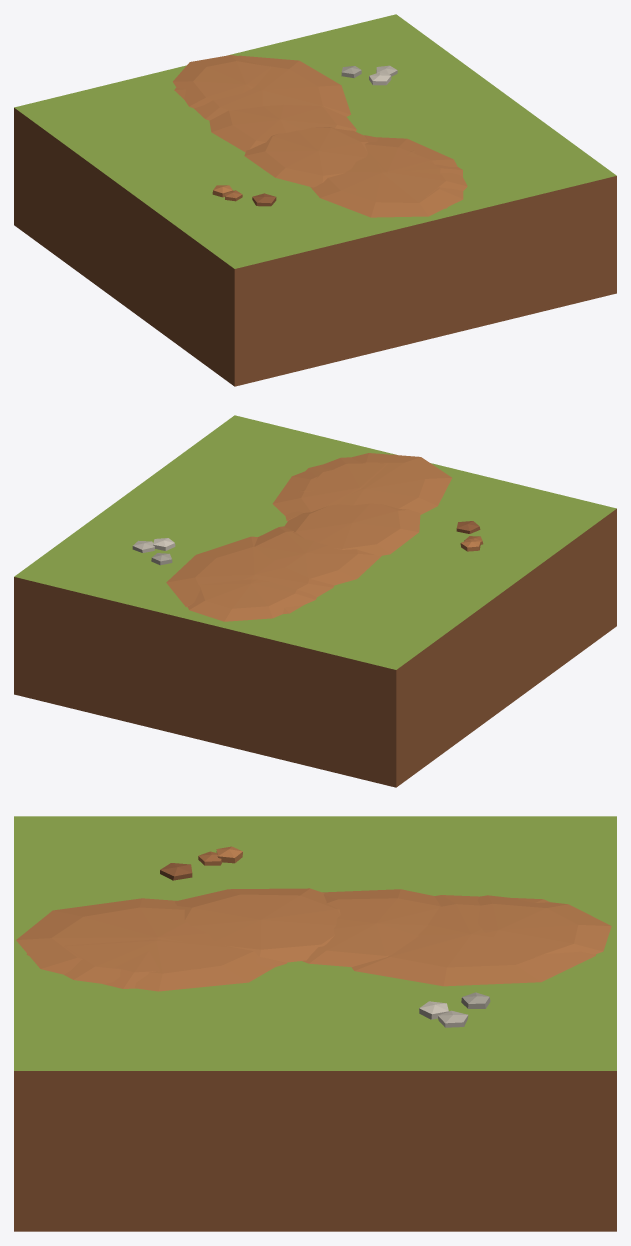
Rendered from tile_dirt_road.glb.
The picture shows the model from 3 angles, top to bottom: view 1: azimuth 30°, elevation 25°; view 2: azimuth 150°, elevation 25°; view 3: azimuth 270°, elevation 25°; orthographic projection. The views are drawn at different scales.
Parts seen in each view (by area): view 1: dirt_road_cap, dirt_road_body, dirt_road_lane_0, dirt_road_lane_2, dirt_road_lane_4, dirt_road_lane_3, dirt_road_lane_5, dirt_road_lane_1; view 2: dirt_road_cap, dirt_road_body, dirt_road_lane_2, dirt_road_lane_0, dirt_road_lane_4, dirt_road_lane_3, dirt_road_lane_5, dirt_road_lane_1; view 3: dirt_road_cap, dirt_road_body, dirt_road_lane_4, dirt_road_lane_0, dirt_road_lane_2, dirt_road_lane_1, dirt_road_lane_3, dirt_road_lane_5.
Part boxes in pixels (box(x1,y1,x2,y2)): dirt_road_cap: box(14, 14, 616, 281); dirt_road_body: box(14, 121, 616, 386); dirt_road_lane_0: box(310, 135, 463, 217); dirt_road_lane_2: box(244, 127, 368, 187); dirt_road_lane_4: box(174, 55, 350, 120); dirt_road_lane_3: box(209, 104, 356, 152); dirt_road_lane_5: box(173, 55, 271, 108); dirt_road_lane_1: box(365, 137, 467, 208); dirt_road_cap: box(14, 415, 616, 682); dirt_road_body: box(14, 522, 616, 787); dirt_road_lane_2: box(284, 503, 420, 556); dirt_road_lane_0: box(285, 453, 451, 521); dirt_road_lane_4: box(166, 536, 334, 614); dirt_road_lane_3: box(254, 526, 381, 585); dirt_road_lane_5: box(187, 579, 316, 621); dirt_road_lane_1: box(272, 454, 395, 515); dirt_road_cap: box(14, 816, 616, 1088); dirt_road_body: box(14, 1088, 616, 1231); dirt_road_lane_4: box(351, 895, 595, 986); dirt_road_lane_0: box(16, 898, 286, 988); dirt_road_lane_2: box(175, 888, 340, 962); dirt_road_lane_1: box(26, 939, 274, 991); dirt_road_lane_3: box(302, 889, 440, 966); dirt_road_lane_5: box(477, 895, 611, 957).
Size of the model in its own units: 1.7 by 0.5393 by 1.7.
